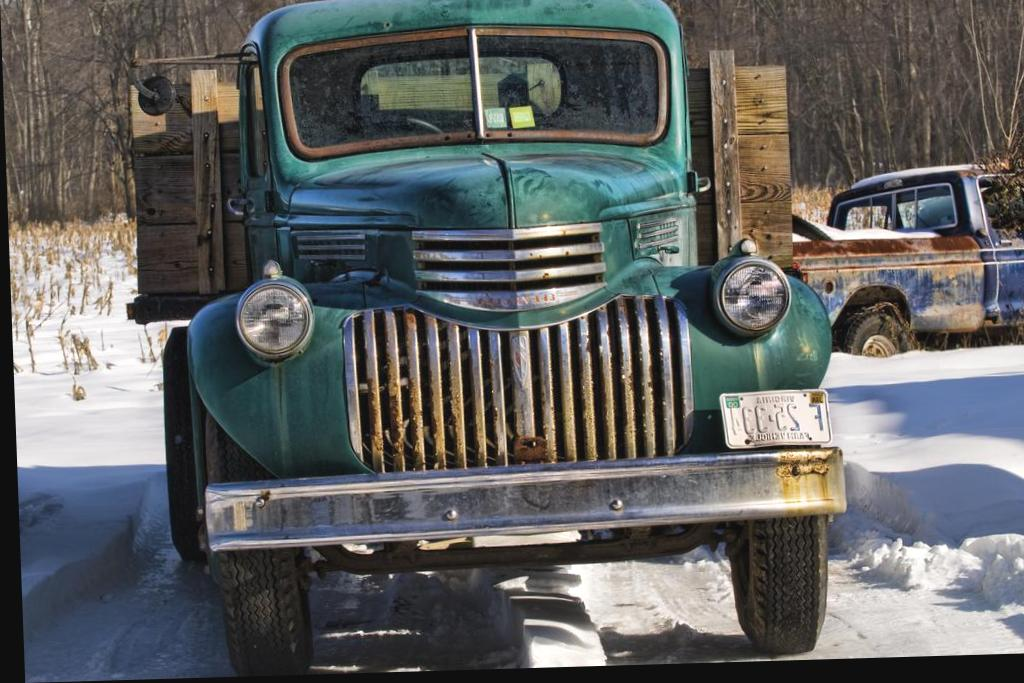License_Plate: (718, 387, 833, 447)
